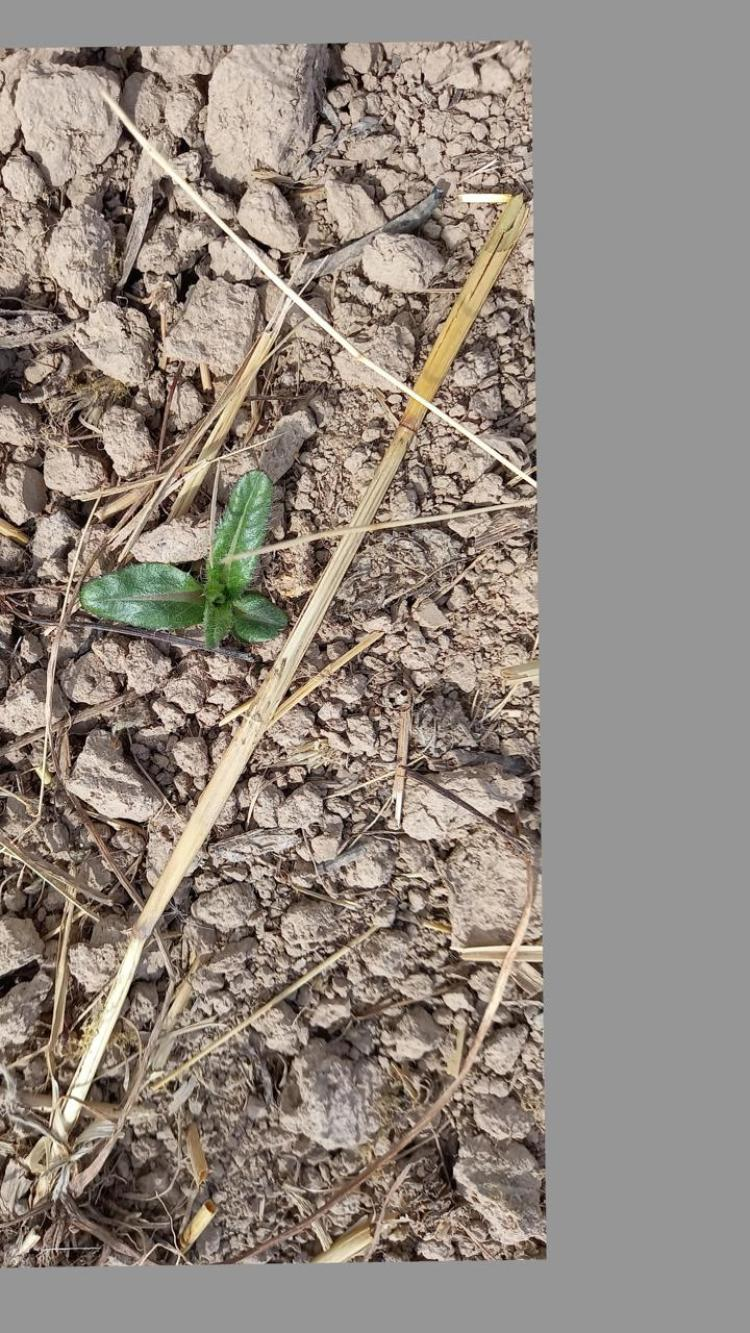bodyak: (73, 469, 296, 660)
